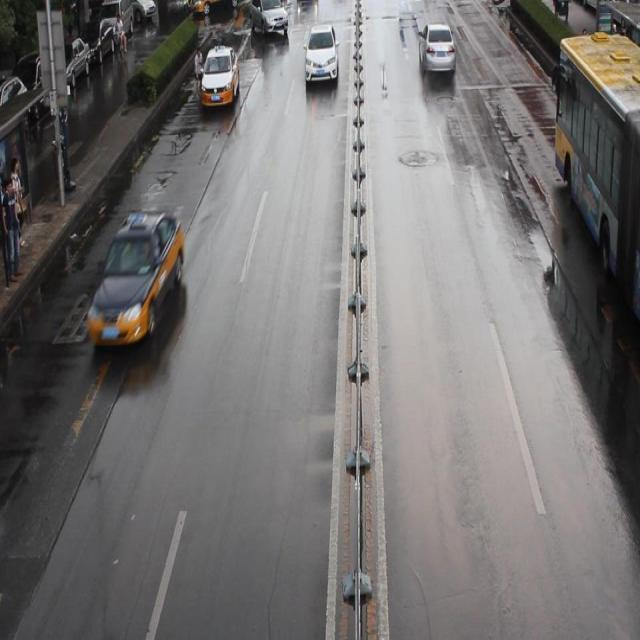car: (87, 214, 185, 349), (198, 46, 240, 106), (303, 24, 338, 85), (418, 20, 455, 75), (245, 1, 289, 39)
van: (552, 29, 640, 321)
